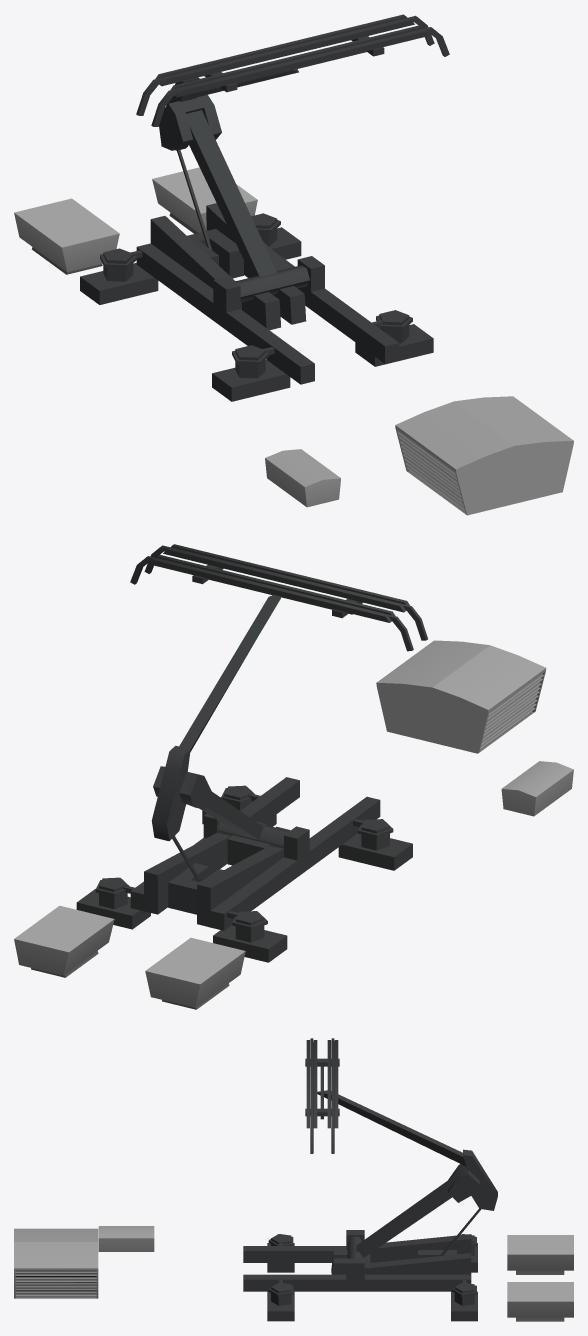
The model's file is TOBU50K_PANTA.glb.
The picture shows the model from 3 angles, top to bottom: view 1: azimuth 30°, elevation 25°; view 2: azimuth 150°, elevation 25°; view 3: azimuth 270°, elevation 25°; orthographic projection. The views are drawn at different scales.
Visible parts, largest first — view 1: Mesh1; view 2: Mesh1; view 3: Mesh1.
Boxes of the visible parts, bbox=[...] form: Mesh1: bbox=[14, 14, 573, 515]; Mesh1: bbox=[14, 544, 573, 1009]; Mesh1: bbox=[14, 1038, 573, 1321].
Bounding box in the file's own units: 4.3 × 4.19 × 10.09.
Materials: 3 (3 with a texture image).
